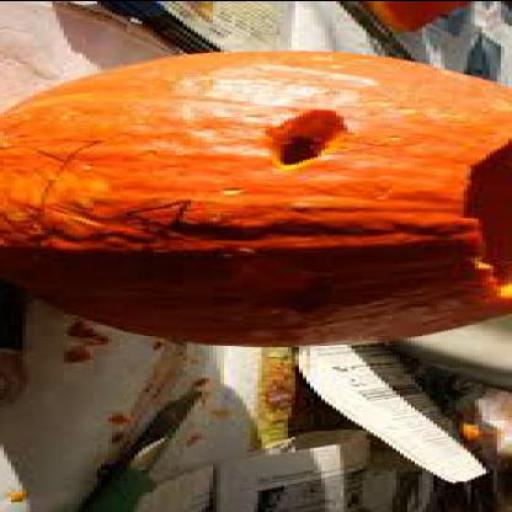biodegradable: (4, 47, 510, 343), (374, 0, 478, 28), (464, 418, 500, 440), (74, 342, 102, 358), (112, 410, 138, 424), (74, 324, 109, 332), (15, 488, 42, 498), (93, 335, 120, 342)
metal: (120, 388, 210, 467)
paper: (299, 339, 494, 482), (217, 427, 385, 511), (142, 432, 299, 511), (75, 0, 303, 48), (292, 1, 390, 53), (460, 0, 511, 80), (415, 10, 479, 66)
